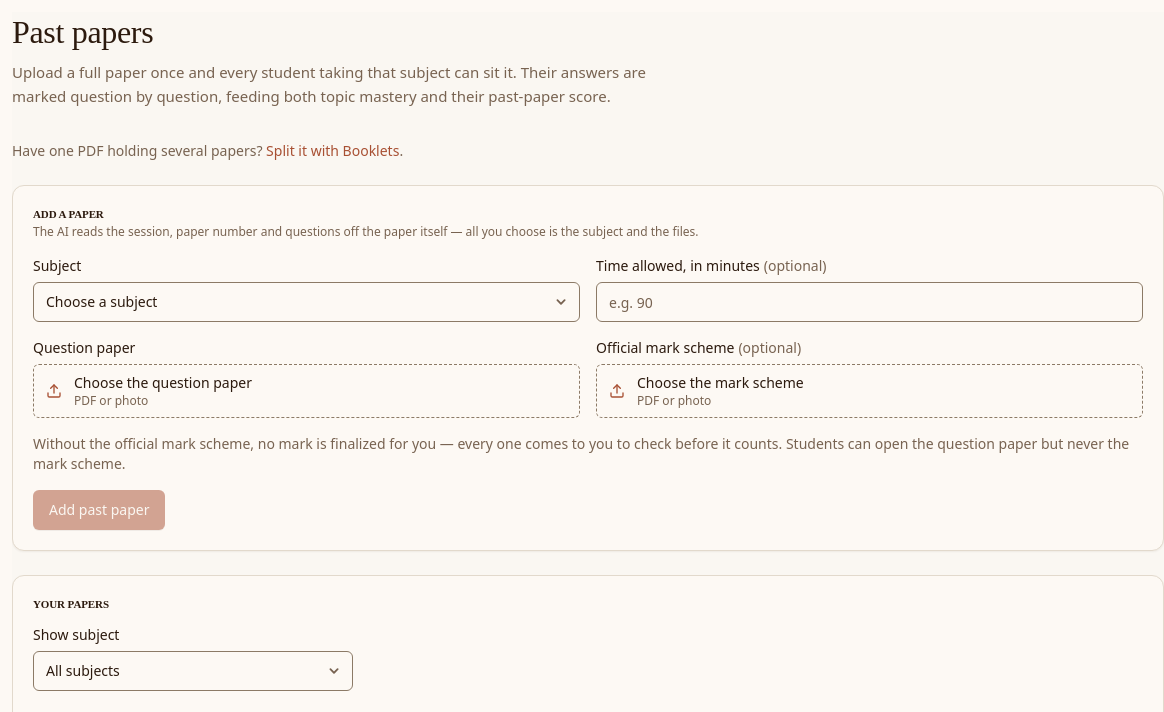
Test: tutor past papers: grouped, picker narrows and sets the param; form follows until touched
The image size is (1164, 712).
Expected: the heading "Add a paper" is shown, left=33, top=208, right=104, bottom=220
Expected: the heading "Your papers" is shown, left=33, top=596, right=109, bottom=613
Select "Chemistry (Cambridge)" in the dropdown labelled "Show subject": (193,671) left=33, top=651, right=353, bottom=691
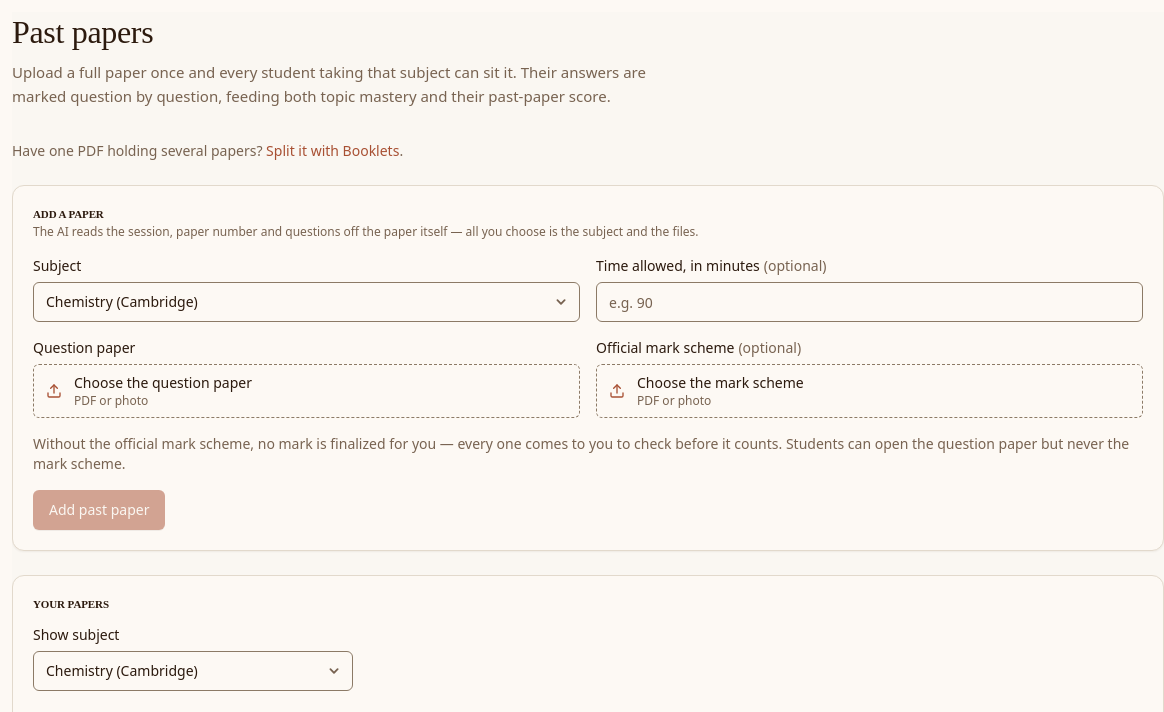
Now the dropdown labelled "Subject" shows "Chemistry (Cambridge)", box left=33, top=282, right=580, bottom=322
